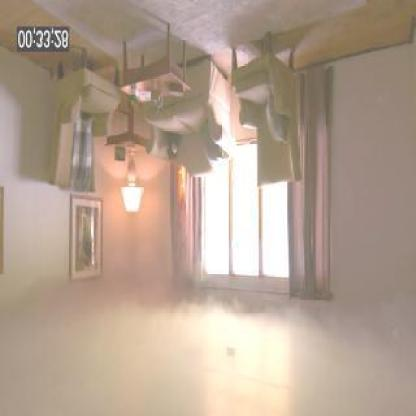Fire: (212, 196, 264, 280), (174, 166, 190, 212)
